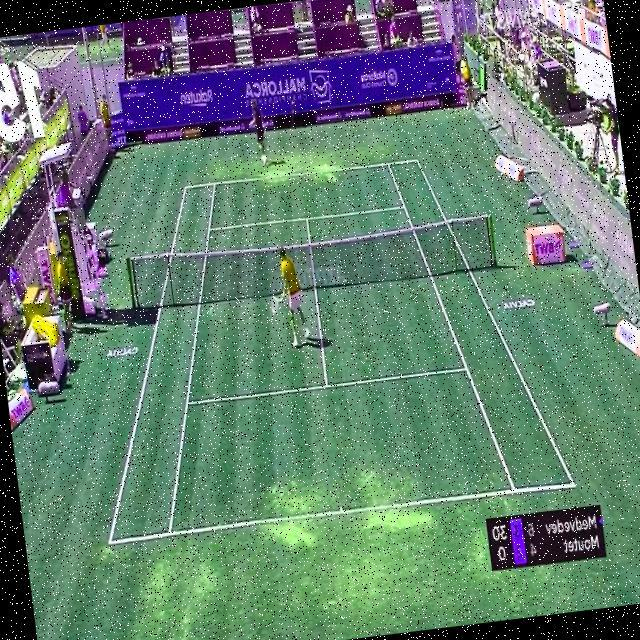court: (66, 142, 576, 546)
net: (125, 212, 498, 310)
player: (263, 242, 313, 350)
